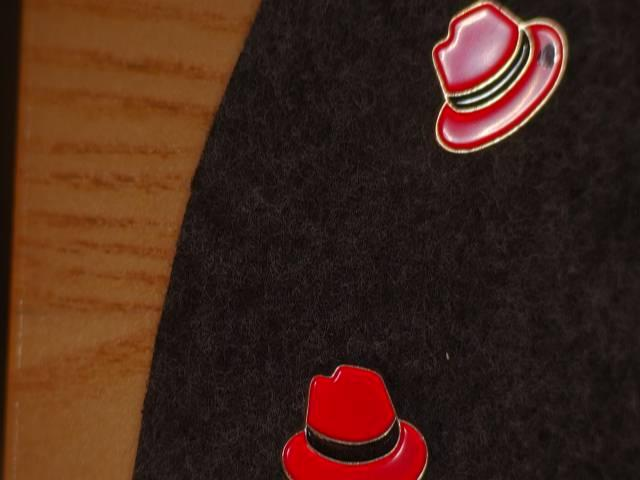Red-Hat: (398, 0, 586, 170), (258, 342, 478, 480)
Scratch: (532, 33, 571, 73)
